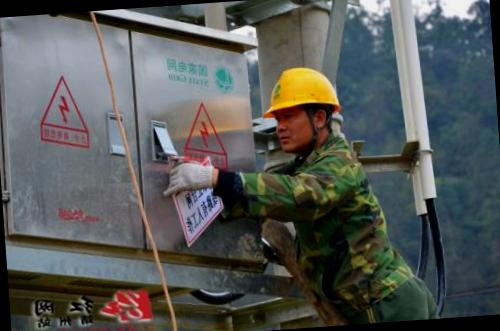person: (185, 56, 440, 331)
